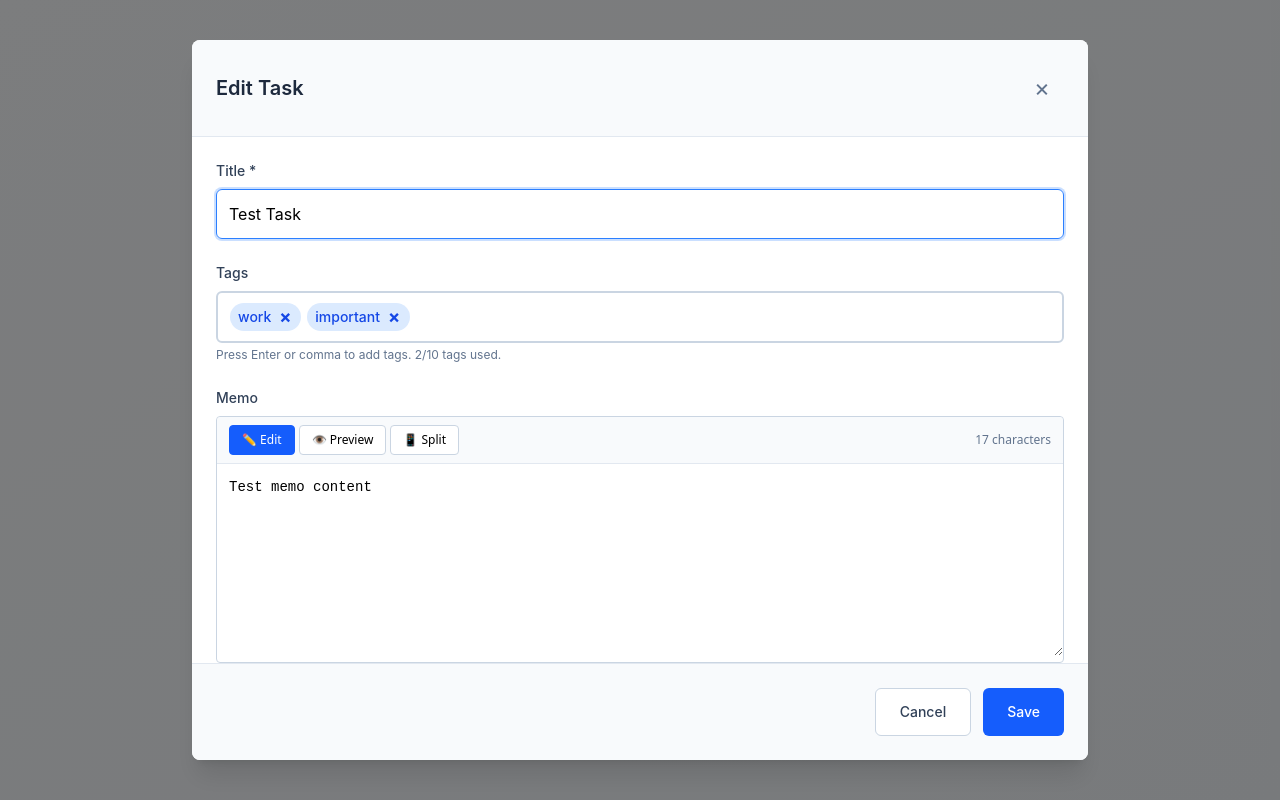
Test: EditTaskModal Component › shows error when title is empty
Clear the title
Clear the field showing "Test Task" at {"x": 640, "y": 214}, box [216,189,1064,239]
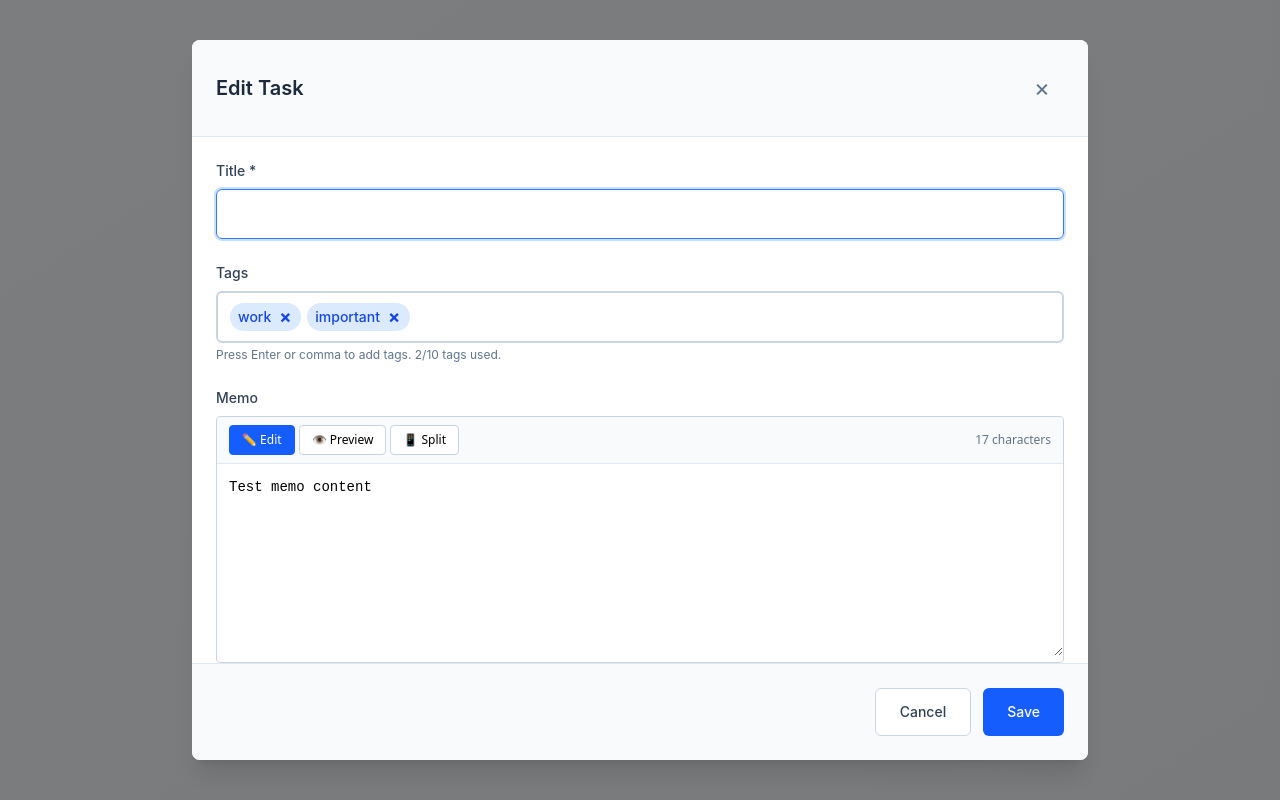
Click save
Click the button "Save" at {"x": 1024, "y": 712}, box [983,688,1064,736]
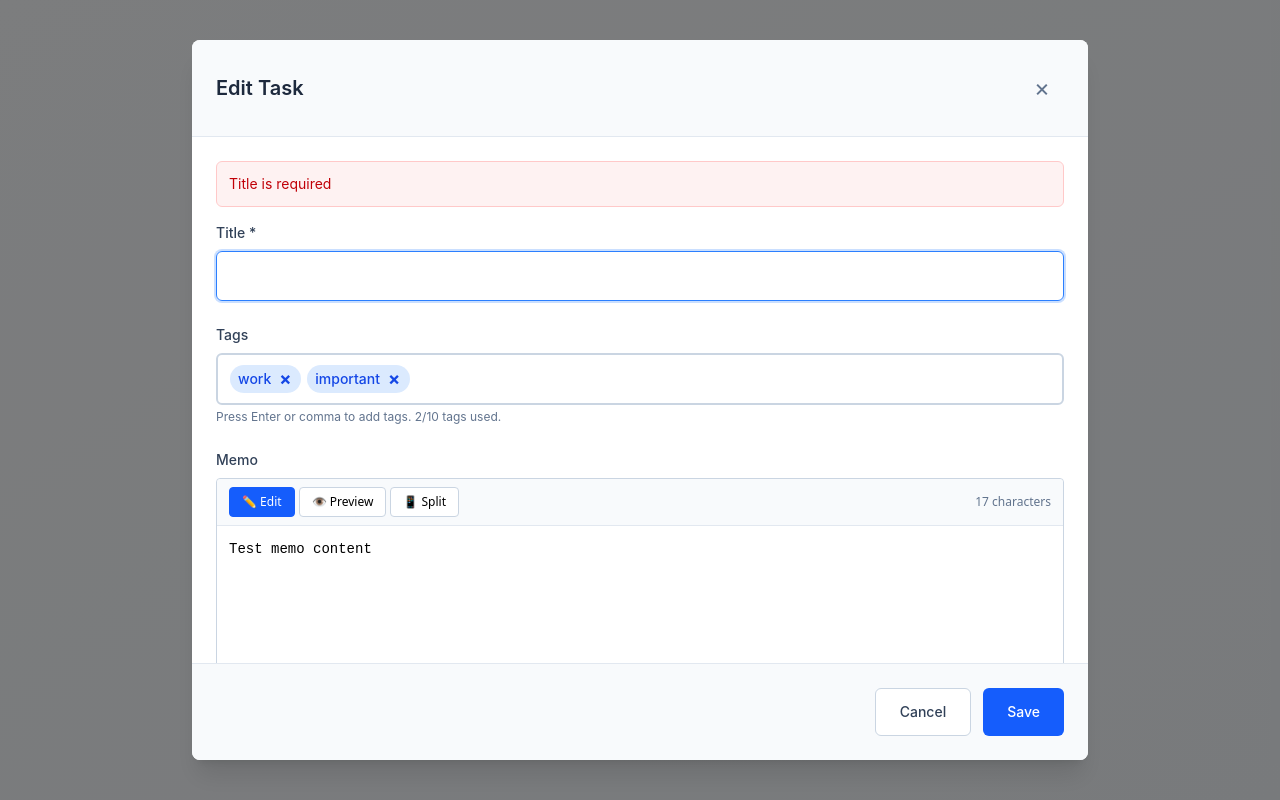
Check: the text "Title is required" is shown, box [216,161,1064,207]
